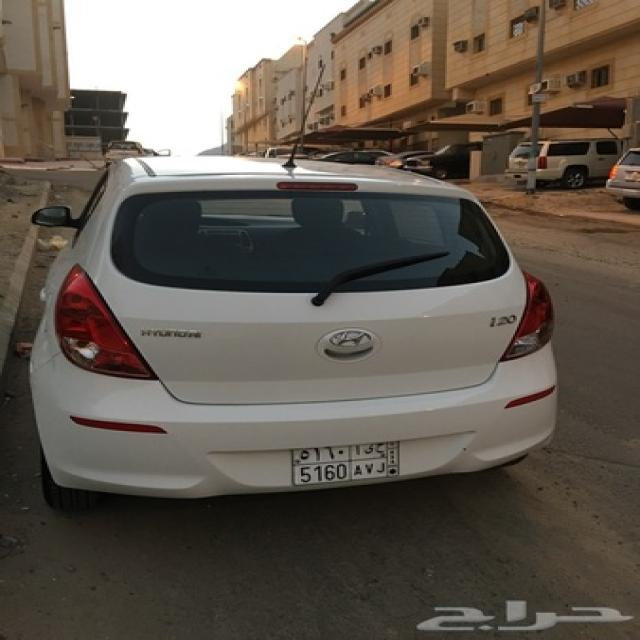license_plate: (288, 439, 401, 488)
